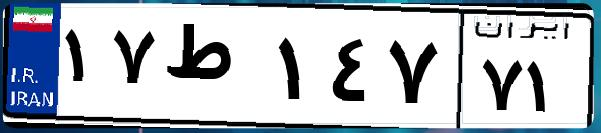1: (270, 28, 330, 110), (57, 26, 110, 100), (525, 38, 570, 115)
4: (330, 28, 385, 110)
7: (385, 28, 445, 110), (475, 38, 525, 113), (110, 28, 158, 98)
ط: (158, 20, 270, 120)
